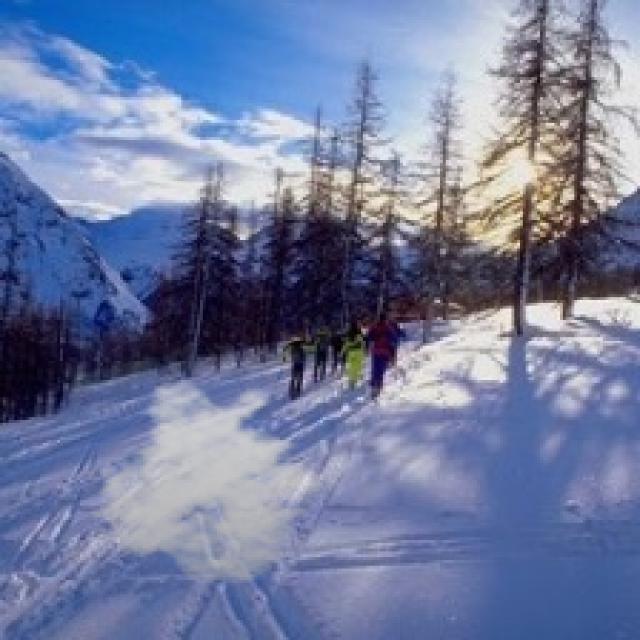smoke: (89, 377, 337, 586)
